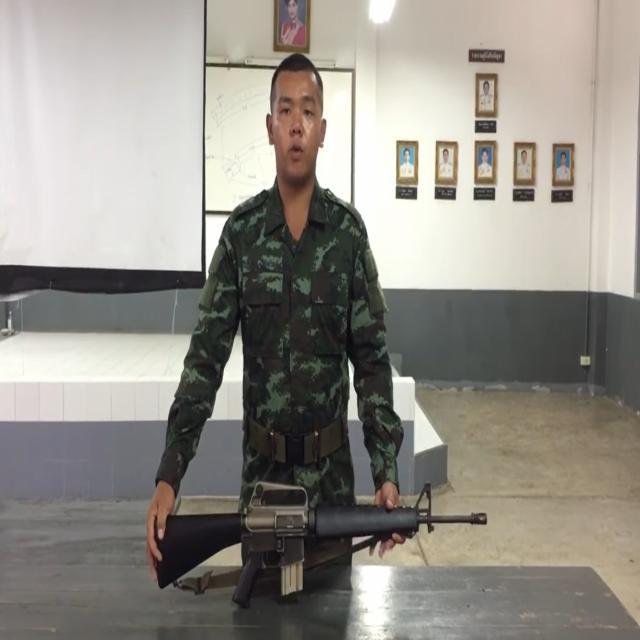m16: (112, 402, 526, 616)
